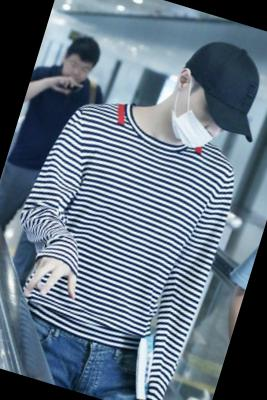mask_weared_incorrect: (167, 85, 234, 155)
without_mask: (59, 52, 95, 88)
